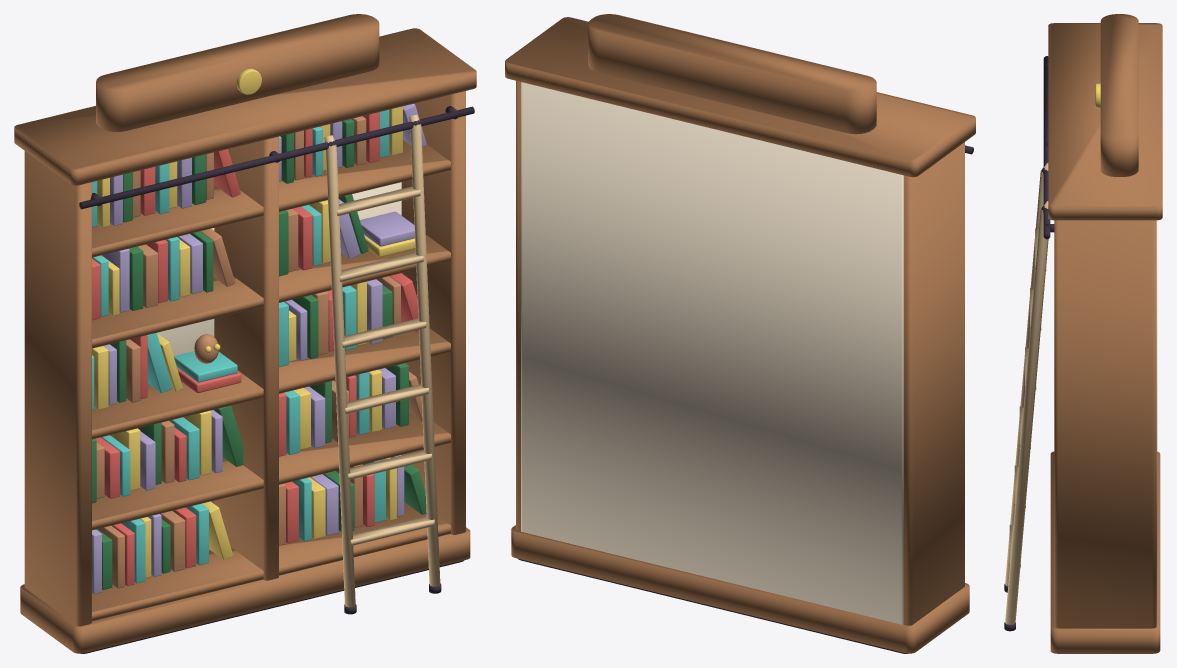
The model's file is tall-bookshelf-arch.glb.
3 renders of one model, left to right at view 1: azimuth 30°, elevation 25°; view 2: azimuth 150°, elevation 25°; view 3: azimuth 270°, elevation 25°, orthographic. The views are drawn at different scales.
Visible parts, largest first — view 1: LibTallBookshelf_WoodFrame, LibTallBookshelf_WoodLightLadder, LibTallBookshelf_TurquoiseBooks, LibTallBookshelf_LavenderBooks, LibTallBookshelf_ButterBooksAndEmblem, LibTallBookshelf_DeepGreenBooks, LibTallBookshelf_CoralBooks, LibTallBookshelf_TerracottaBooksAndOwl, LibTallBookshelf_SlateRailAndPads, LibTallBookshelf_CreamBacking; view 2: LibTallBookshelf_CreamBacking, LibTallBookshelf_WoodFrame, LibTallBookshelf_SlateRailAndPads; view 3: LibTallBookshelf_WoodFrame, LibTallBookshelf_WoodLightLadder, LibTallBookshelf_SlateRailAndPads, LibTallBookshelf_CreamBacking.
Part boxes in pixels (x1,y1,x2,y2): LibTallBookshelf_WoodFrame: [14, 14, 476, 653]; LibTallBookshelf_WoodLightLadder: [324, 114, 440, 607]; LibTallBookshelf_TurquoiseBooks: [92, 109, 389, 583]; LibTallBookshelf_LavenderBooks: [92, 103, 426, 594]; LibTallBookshelf_ButterBooksAndEmblem: [92, 68, 415, 577]; LibTallBookshelf_DeepGreenBooks: [92, 119, 426, 589]; LibTallBookshelf_CoralBooks: [92, 112, 418, 585]; LibTallBookshelf_TerracottaBooksAndOwl: [96, 116, 422, 588]; LibTallBookshelf_SlateRailAndPads: [79, 106, 474, 653]; LibTallBookshelf_CreamBacking: [157, 182, 401, 503]; LibTallBookshelf_CreamBacking: [521, 82, 903, 624]; LibTallBookshelf_WoodFrame: [505, 14, 975, 653]; LibTallBookshelf_SlateRailAndPads: [518, 145, 973, 653]; LibTallBookshelf_WoodFrame: [1048, 14, 1162, 653]; LibTallBookshelf_WoodLightLadder: [1005, 163, 1048, 624]; LibTallBookshelf_SlateRailAndPads: [1004, 56, 1054, 631]; LibTallBookshelf_CreamBacking: [1156, 220, 1157, 624].
Size of the model in its own units: 1.82 by 2.27 by 0.664.
